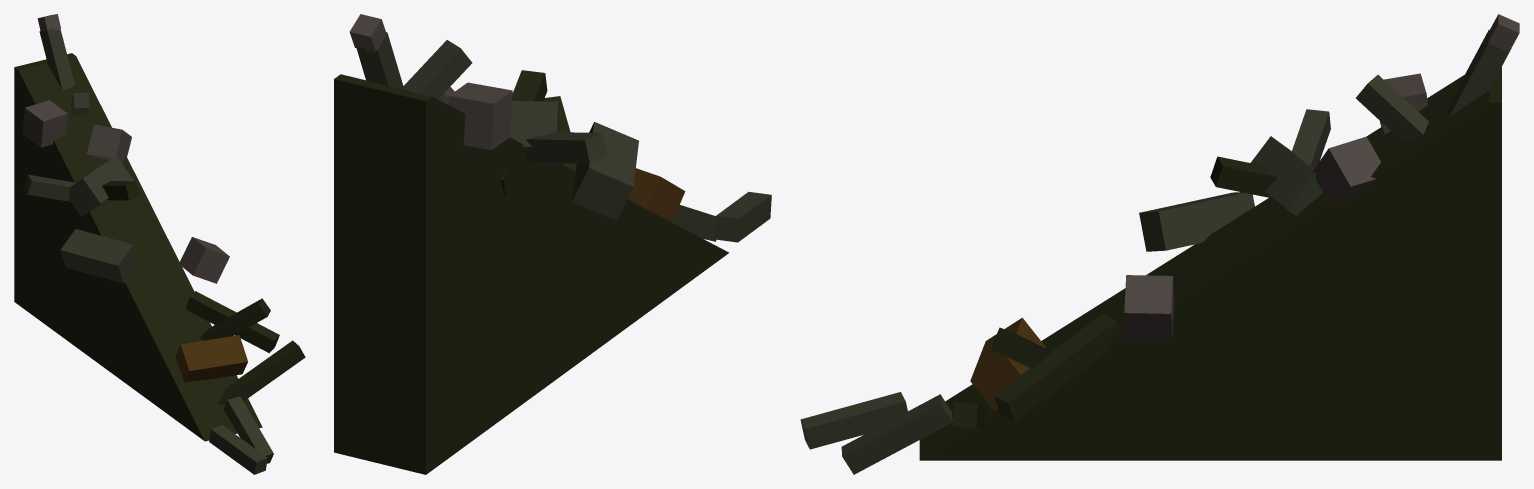
Rendered from SM_PilaZombi_Altura4_s0_LOD1.fbx.
The picture shows the model from 3 angles, left to right: view 1: azimuth 30°, elevation 25°; view 2: azimuth 150°, elevation 25°; view 3: azimuth 270°, elevation 25°; orthographic projection. The views are drawn at different scales.
Visible parts, largest first — view 1: SM_pila_zombis_v3_LOD1; view 2: SM_pila_zombis_v3_LOD1; view 3: SM_pila_zombis_v3_LOD1.
Part boxes in pixels (<box>): SM_pila_zombis_v3_LOD1: <box>14,14,305,474</box>; SM_pila_zombis_v3_LOD1: <box>334,14,771,474</box>; SM_pila_zombis_v3_LOD1: <box>800,14,1519,474</box>.
Size of the model in its own units: 1.47 by 2.54 by 3.67.
